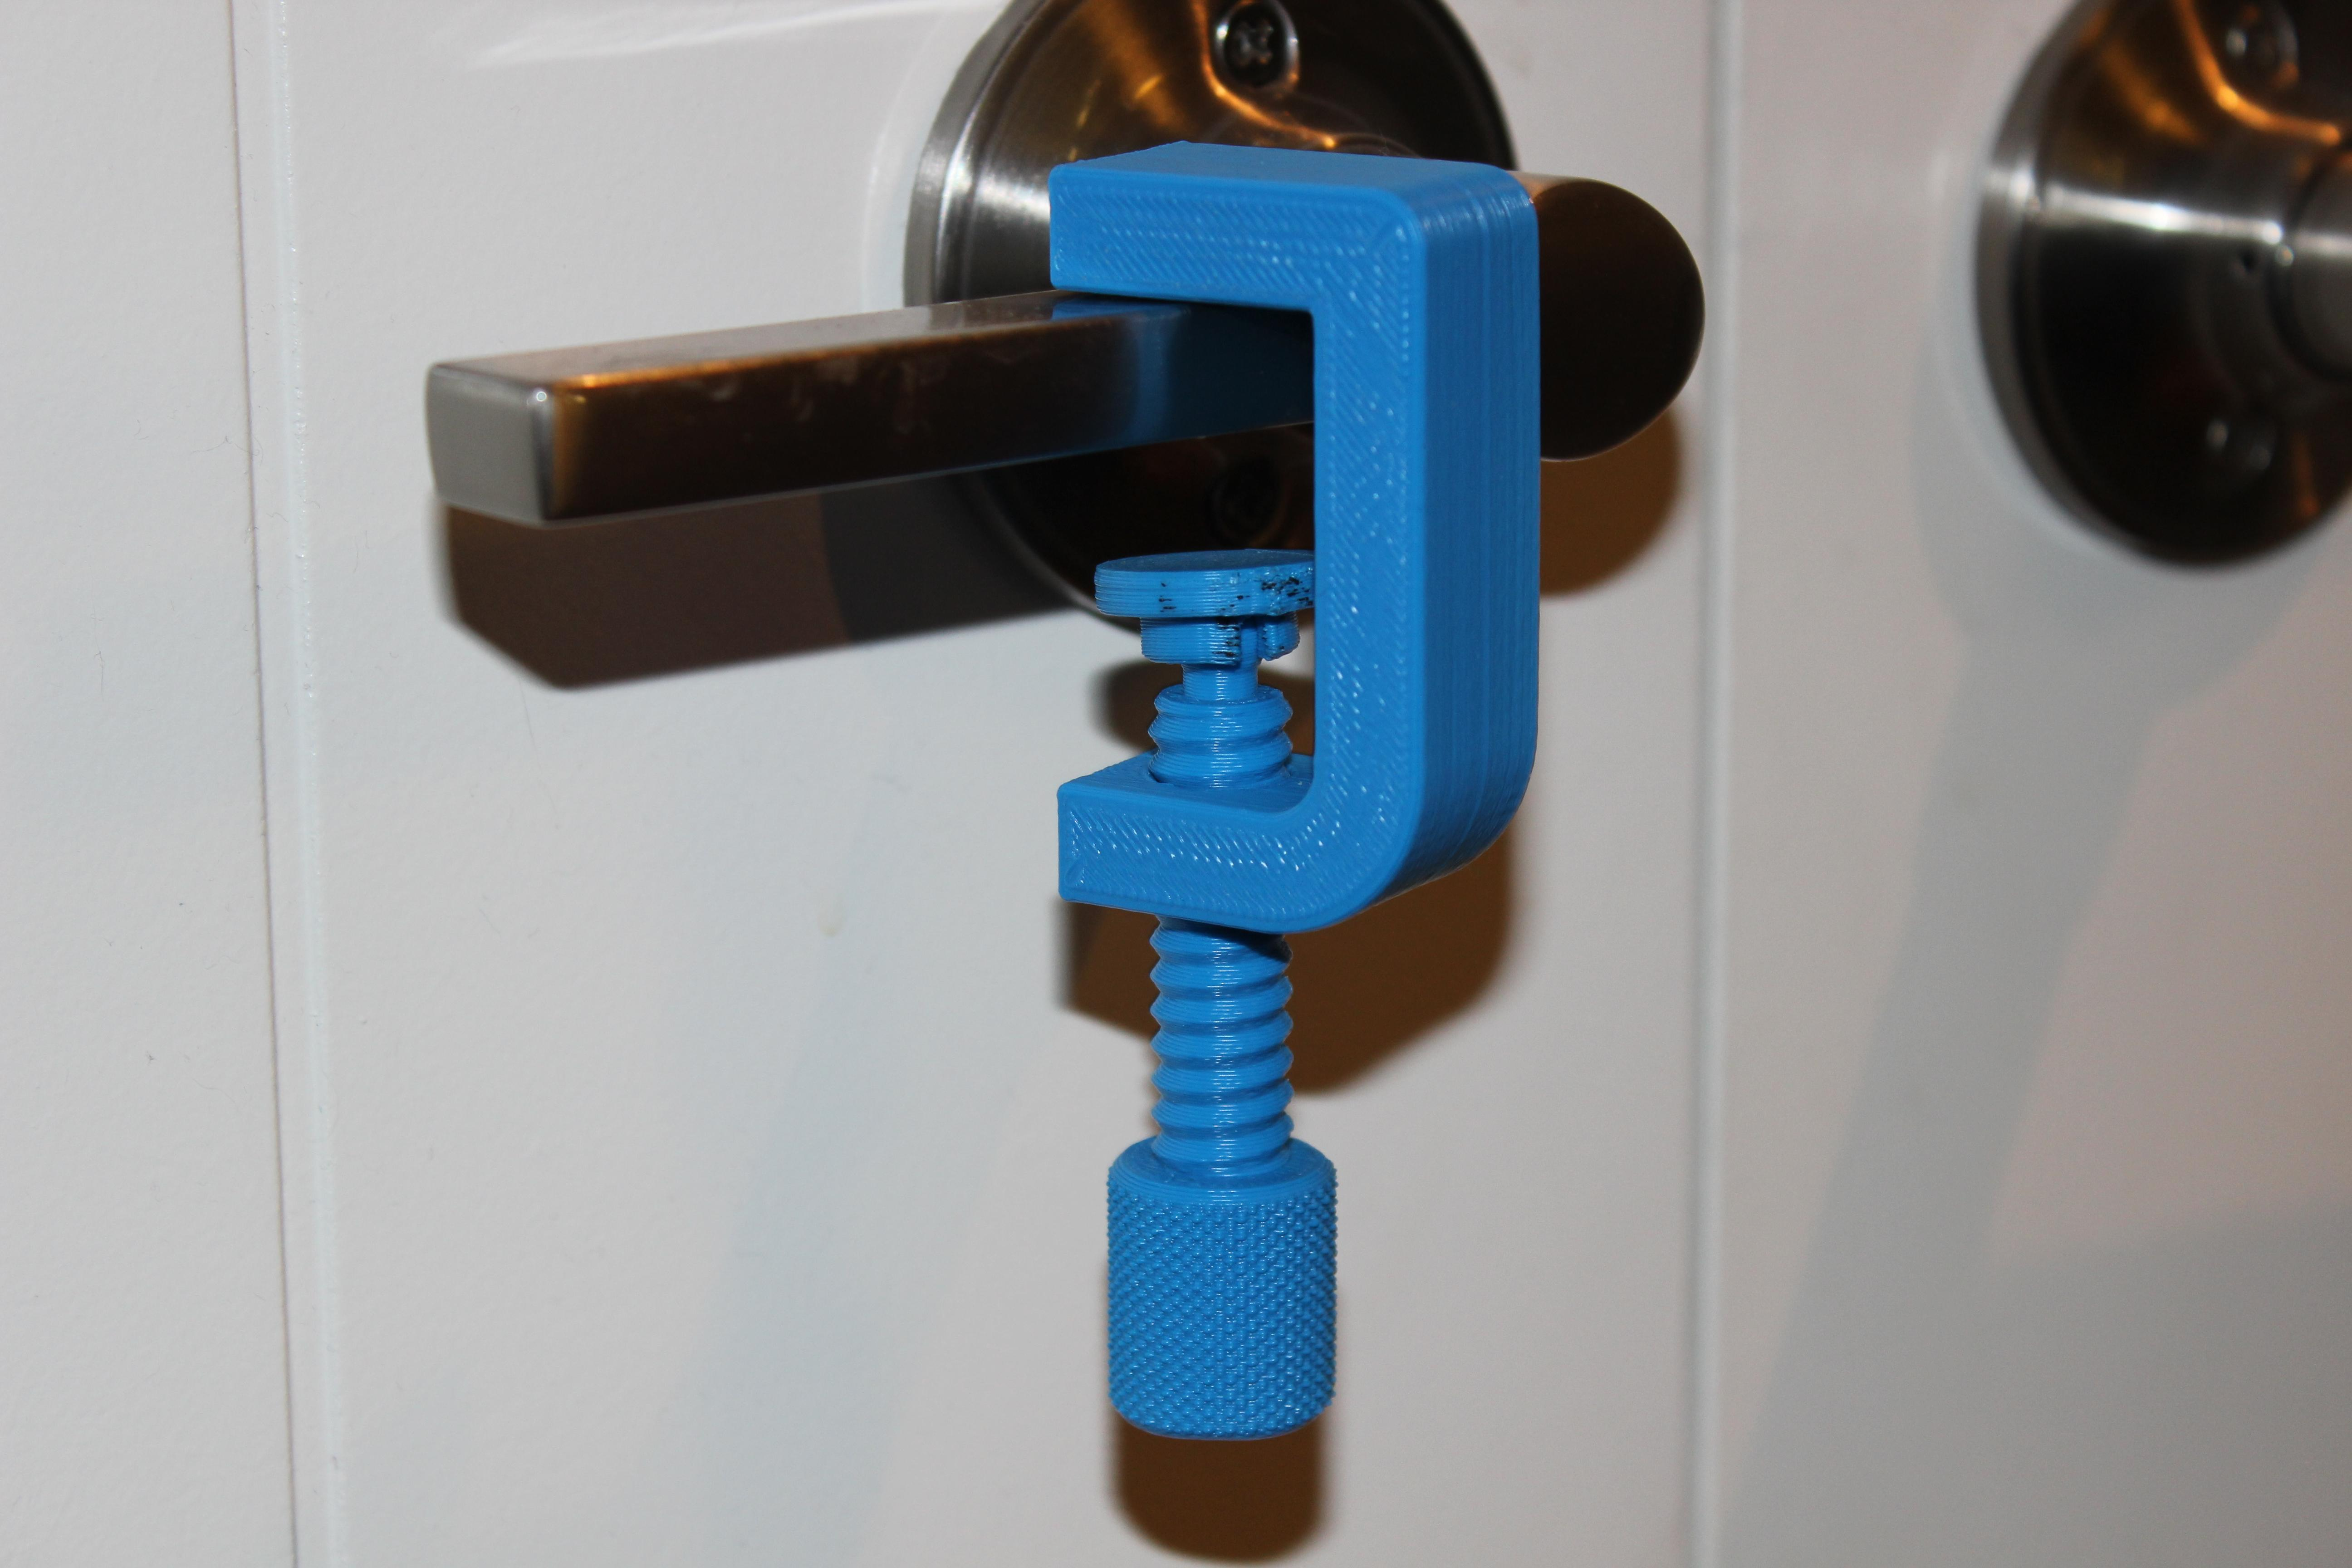gClamp: (989, 117, 1620, 1500)
